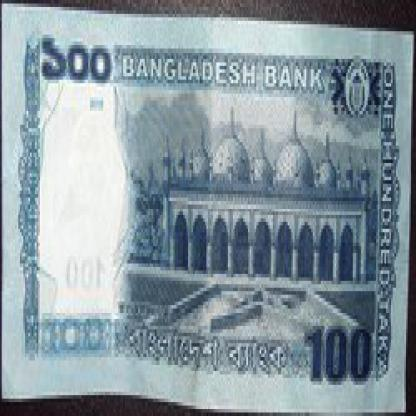one hundred taka: (35, 24, 113, 97), (301, 319, 376, 392)
